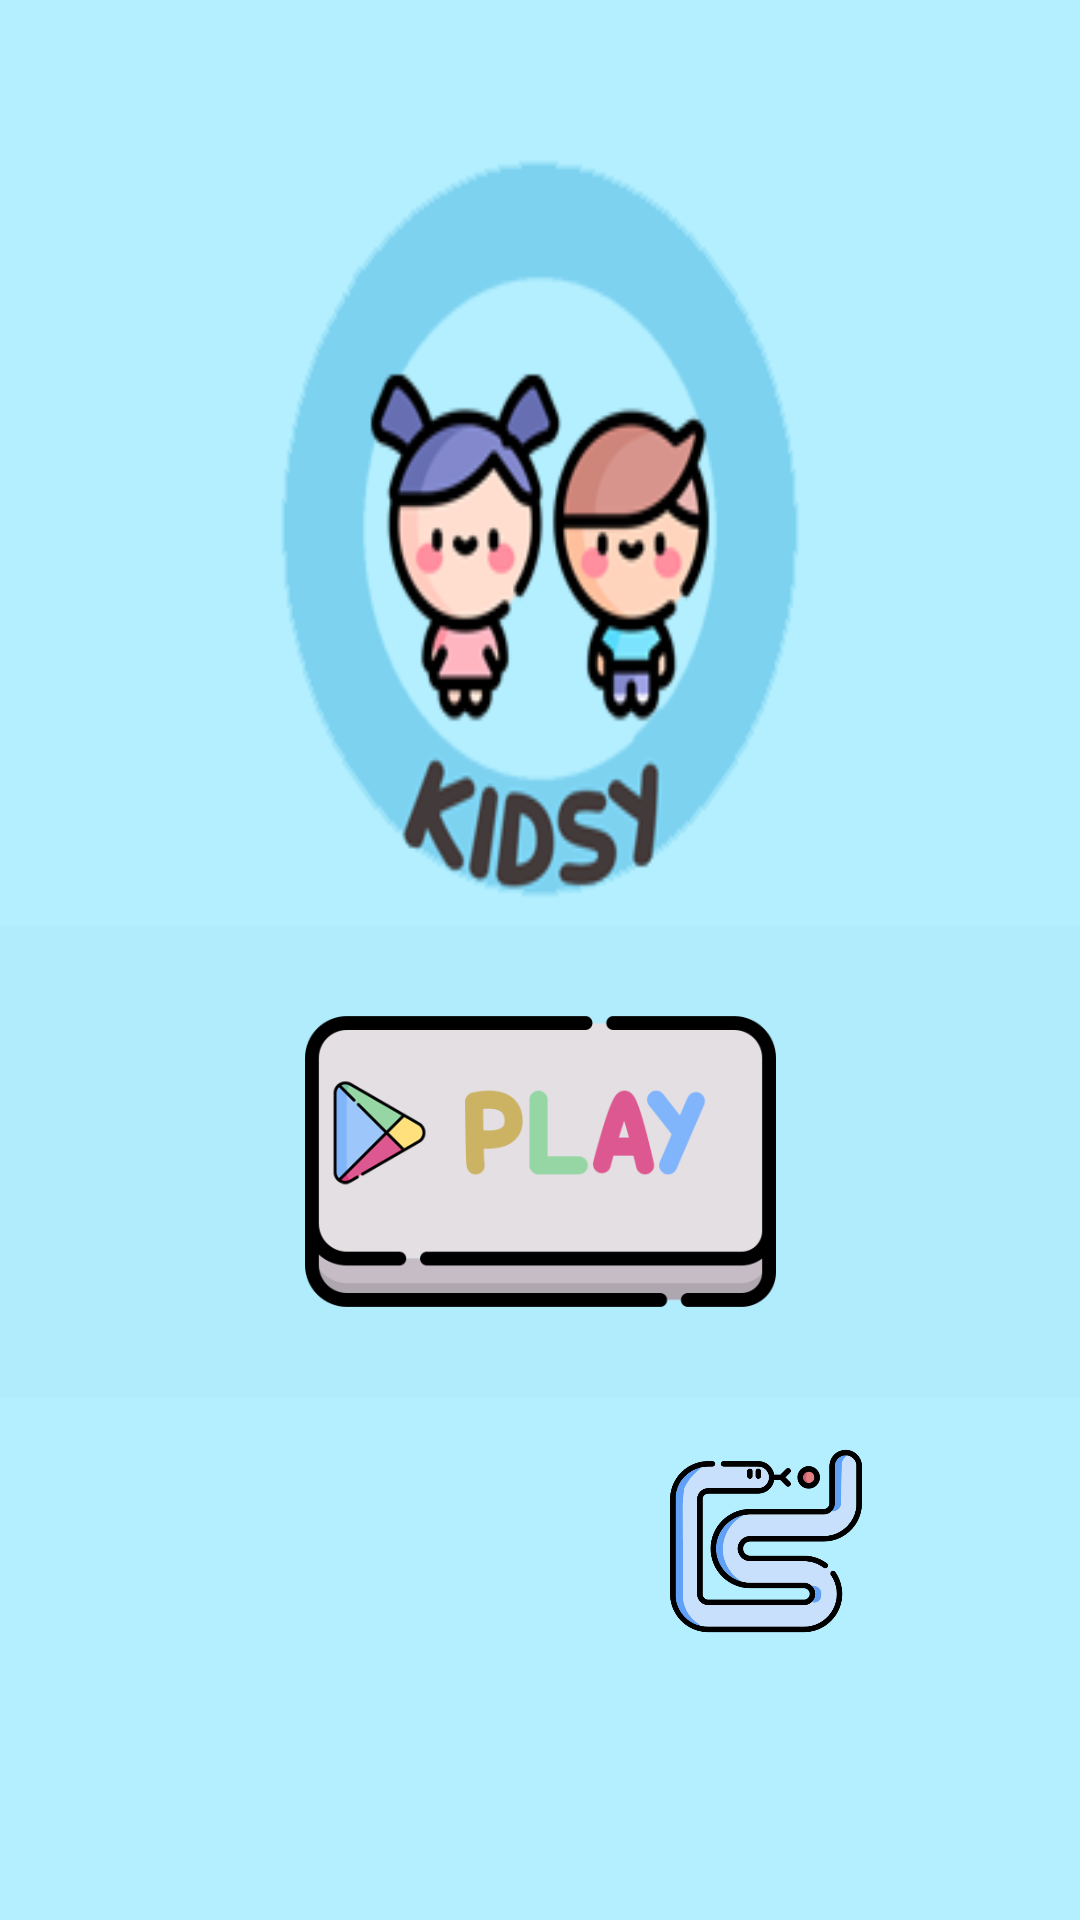

Where to tap for icons on this 1080px×1920px app screen, as (x,y):
snake: (766,1541)
